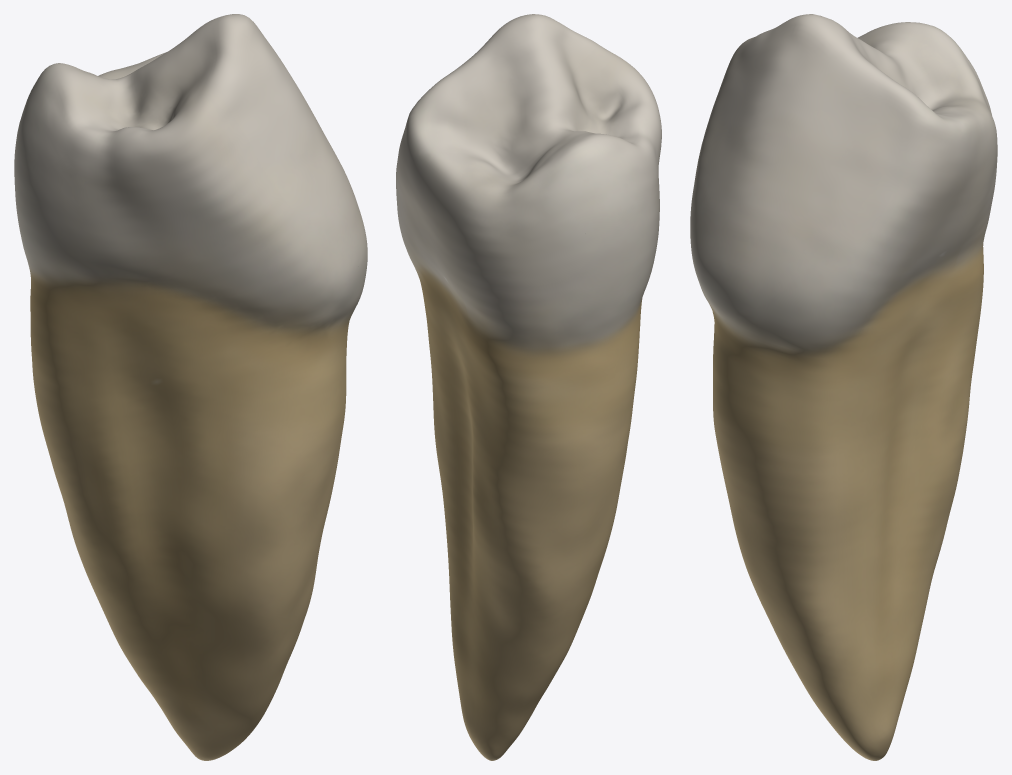
File: mandibular_first_premolar.glb
3 renders of one model, left to right at view 1: azimuth 30°, elevation 25°; view 2: azimuth 150°, elevation 25°; view 3: azimuth 270°, elevation 25°, orthographic. The views are drawn at different scales.
Parts seen in each view (by area): view 1: Object_2; view 2: Object_2; view 3: Object_2.
Boxes of the visible parts, x1,y1,x2,y2 form: Object_2: (14,14,367,760); Object_2: (396,14,661,760); Object_2: (690,14,997,760).
Size of the model in its own units: 0.34 by 0.8793 by 0.3319.
1 material, 1 textured.
